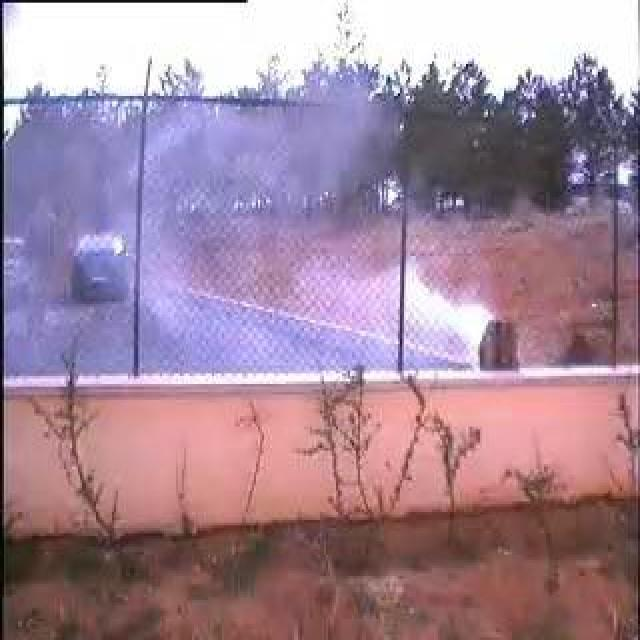Smoke: (112, 99, 484, 368)
